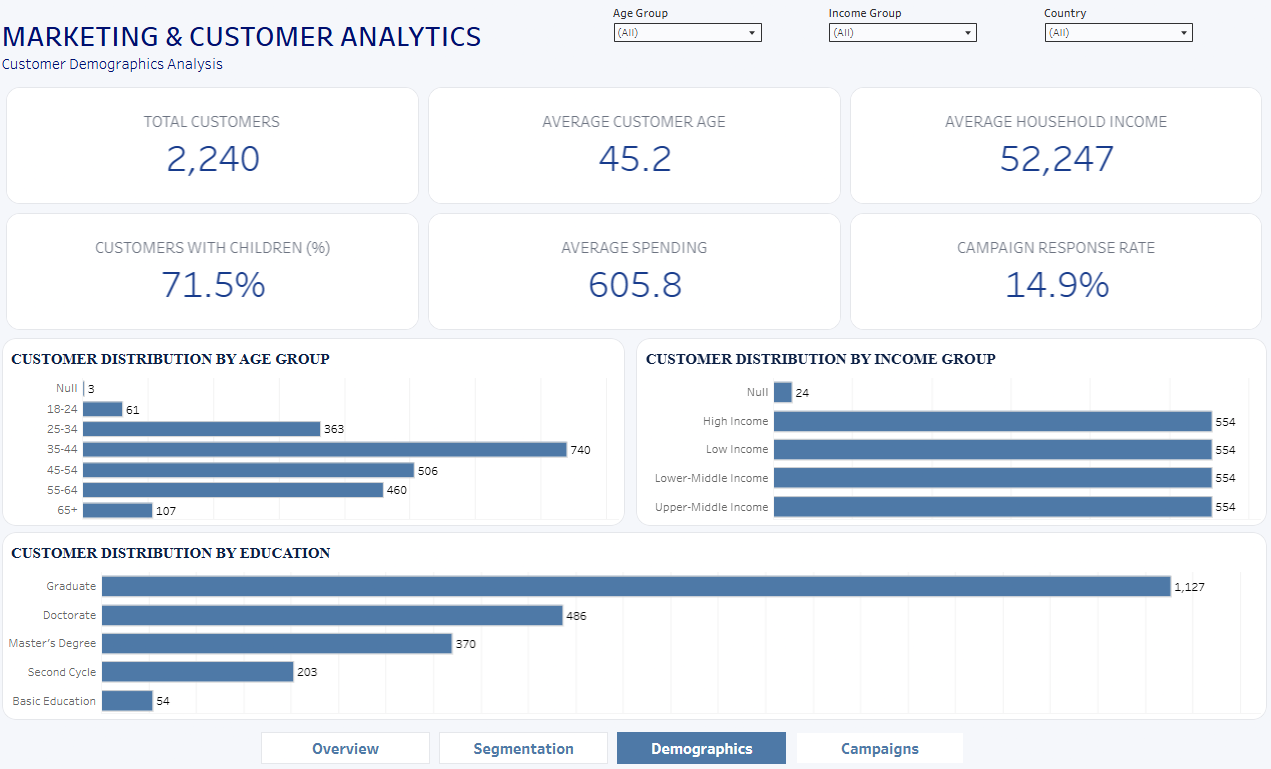

The dashboard page shown, as its layout file describes it:
{"tool":"tableau","page":{"name":"03_Customer_Demographics","canvas":[1366,830],"ordinal":2},"visuals":[{"type":"text","box":[8,8.6,1350,87.5]},{"type":"filter","title":"CH_Customer_Age_Distribution","param":"[federated.05ylme20dnpxct1gjvnq2020ji7q].[none:Age_Group:nk]","box":[660,9.7,160,61.6]},{"type":"filter","title":"CH_Customer_Age_Distribution","param":"[federated.05ylme20dnpxct1gjvnq2020ji7q].[none:Income_Group:nk]","box":[890,9.7,160,56.2]},{"type":"filter","title":"CH_Customer_Age_Distribution","param":"[federated.05ylme20dnpxct1gjvnq2020ji7q].[none:Country:nk]","box":[1120,9.7,160,62.7]},{"type":"worksheet","title":"KPI_Total_Customers","mark":"Automatic","box":[8,92,450,135]},{"type":"worksheet","title":"KPI_Avg_Customer_Age","mark":"Automatic","box":[458,92,450,135]},{"type":"worksheet","title":"KPI_Avg_Income","mark":"Automatic","box":[908,92,450,135]},{"type":"worksheet","title":"KPI_Customers_With_Children","mark":"Automatic","box":[8,226,450,135]},{"type":"worksheet","title":"KPI_Avg_Spending","mark":"Automatic","box":[458,226,450,135]},{"type":"worksheet","title":"KPI_Response_Rate","mark":"Automatic","box":[908,226,450,135]},{"type":"worksheet","title":"CH_Customer_Age_Distribution","mark":"Bar","rows":["Age_Group"],"cols":["ID"],"box":[8,365,665,200]},{"type":"worksheet","title":"CH_Customer_Income_Distribution","mark":"Bar","rows":["Income_Group"],"cols":["ID"],"box":[685,365,673,200]},{"type":"worksheet","title":"CH_Customer_Education_Distribution","mark":"Bar","rows":["Education_Standardized"],"cols":["ID"],"box":[8,572,1350,200]},{"type":"dashboard-object","box":[285,785,180,34]},{"type":"dashboard-object","box":[475,785,180,34]},{"type":"dashboard-object","box":[665,785,180,34]},{"type":"dashboard-object","box":[855,785,180,34]}]}

Visuals, with their boxes in screenshot pixels (x1, y1, x2, y2), scaled from the page's 1366x830 canvas onto the 1271x769 screenshot:
text: <region>7, 8, 1264, 89</region>
"CH_Customer_Age_Distribution" filter: <region>614, 9, 763, 66</region>
"CH_Customer_Age_Distribution" filter: <region>828, 9, 977, 61</region>
"CH_Customer_Age_Distribution" filter: <region>1042, 9, 1191, 67</region>
"KPI_Total_Customers" worksheet: <region>7, 85, 426, 210</region>
"KPI_Avg_Customer_Age" worksheet: <region>426, 85, 845, 210</region>
"KPI_Avg_Income" worksheet: <region>845, 85, 1264, 210</region>
"KPI_Customers_With_Children" worksheet: <region>7, 209, 426, 334</region>
"KPI_Avg_Spending" worksheet: <region>426, 209, 845, 334</region>
"KPI_Response_Rate" worksheet: <region>845, 209, 1264, 334</region>
"CH_Customer_Age_Distribution" worksheet (Bar marks): <region>7, 338, 626, 523</region>
"CH_Customer_Income_Distribution" worksheet (Bar marks): <region>637, 338, 1264, 523</region>
"CH_Customer_Education_Distribution" worksheet (Bar marks): <region>7, 530, 1264, 715</region>
dashboard-object: <region>265, 727, 433, 759</region>
dashboard-object: <region>442, 727, 609, 759</region>
dashboard-object: <region>619, 727, 786, 759</region>
dashboard-object: <region>796, 727, 963, 759</region>
